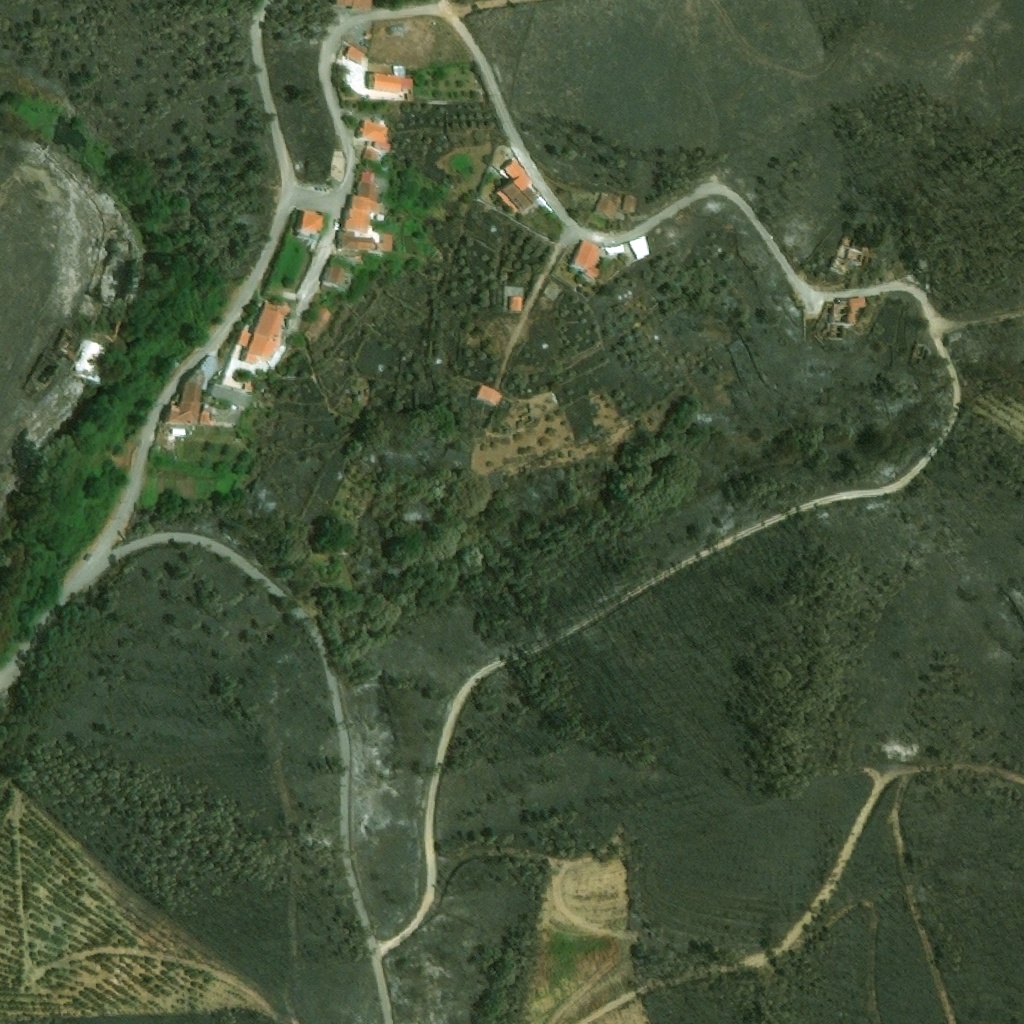0 no-damage: (237, 299, 292, 366), (494, 157, 540, 213), (68, 337, 112, 384), (162, 380, 203, 427), (568, 238, 606, 283), (364, 65, 414, 94), (341, 194, 379, 232), (205, 381, 255, 409), (334, 230, 381, 254), (352, 137, 392, 164), (199, 404, 242, 429), (320, 264, 356, 293), (593, 189, 622, 222), (326, 150, 348, 186), (475, 384, 503, 408), (296, 211, 325, 233), (362, 121, 391, 142), (358, 170, 379, 198), (628, 237, 652, 260), (344, 45, 366, 64), (624, 189, 640, 214), (508, 295, 523, 311), (384, 234, 395, 251), (609, 244, 625, 254)
3 destroyed: (828, 232, 866, 276), (828, 297, 867, 327)
4 un-classified: (86, 300, 129, 345), (337, 0, 375, 13)
